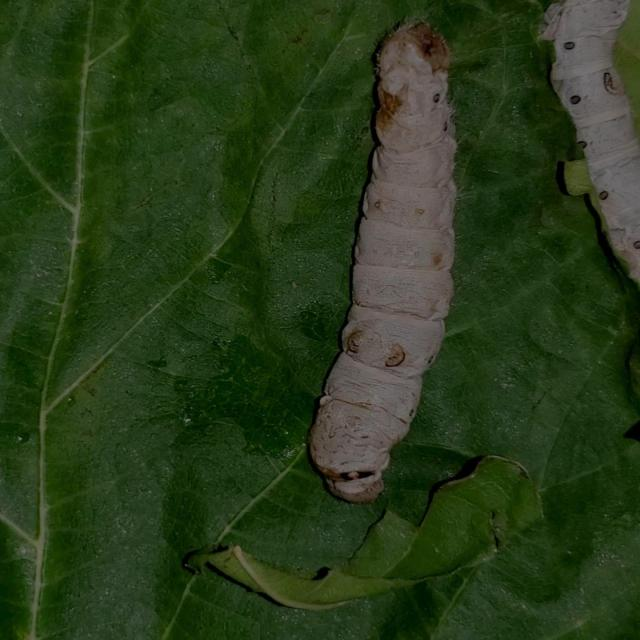Grasserie: (292, 14, 506, 506)
